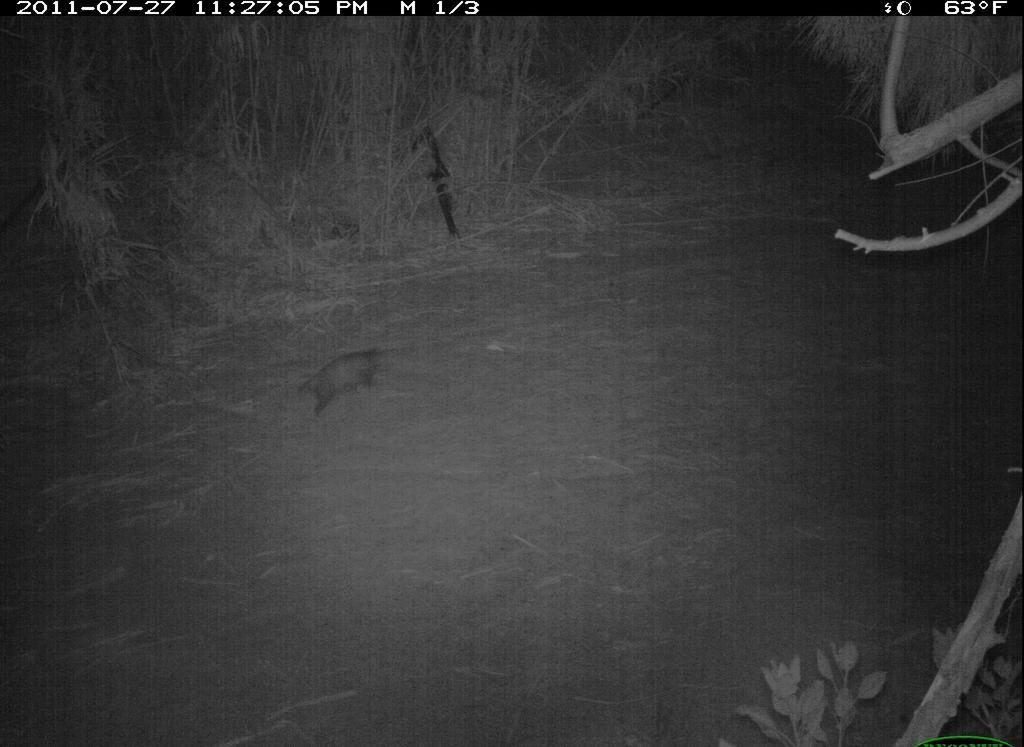opossum: (282, 345, 388, 419)
